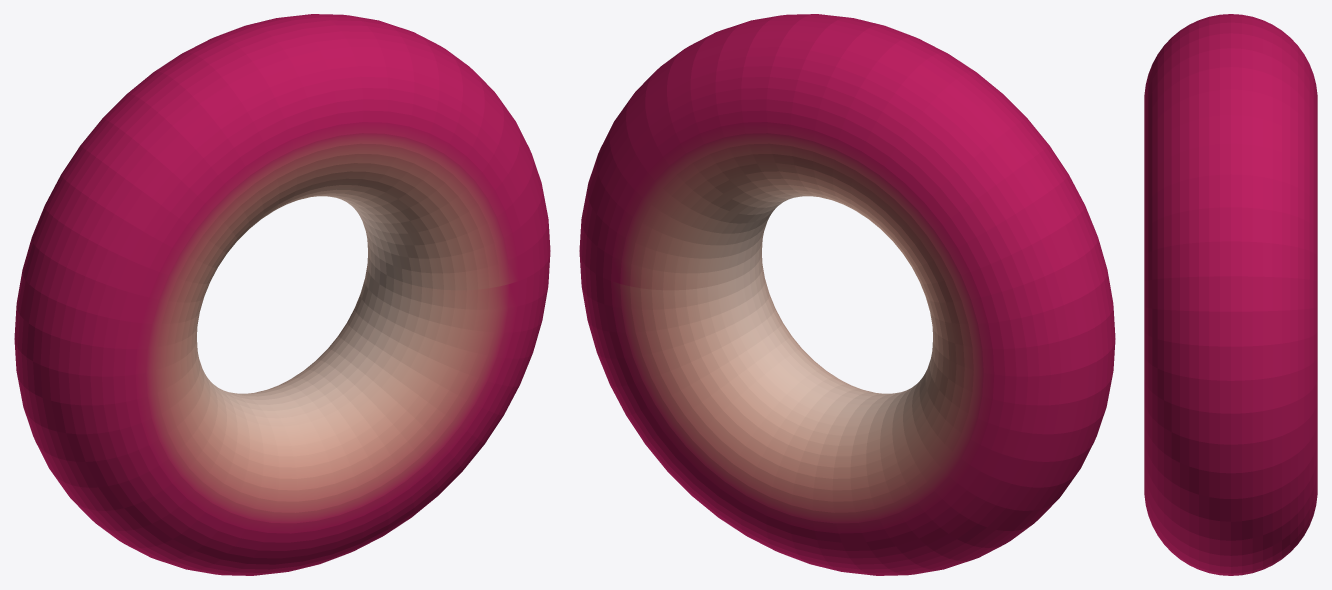
3 renders of one model, left to right at view 1: azimuth 30°, elevation 25°; view 2: azimuth 150°, elevation 25°; view 3: azimuth 270°, elevation 25°, orthographic. The views are drawn at different scales.
Parts seen in each view (by area): view 1: world; view 2: world; view 3: world.
Part boxes in pixels (x1,y1,x2,y2): world: (14,14,550,575); world: (579,14,1115,575); world: (1144,14,1317,575).
Bounding box in the file's own units: 28.93 × 28.88 × 8.92.
